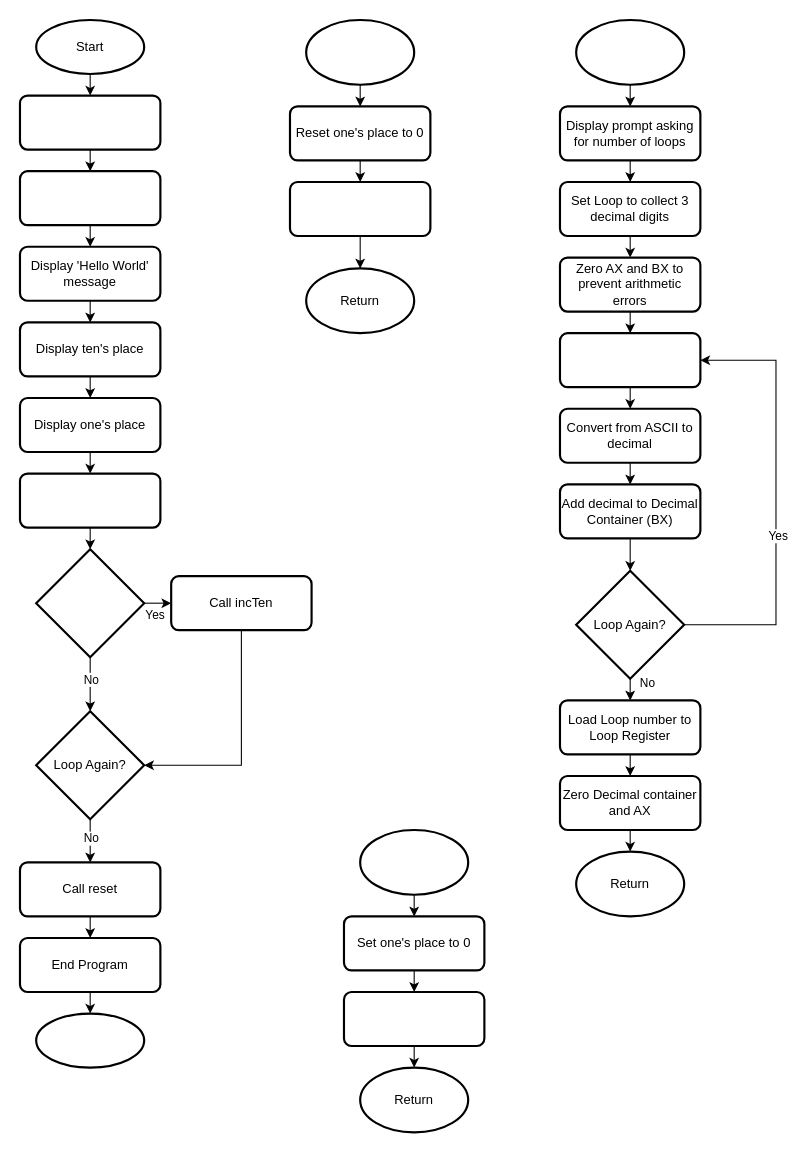
Some shapes in this 806 by 1151 pixel diagram are drawn without their labels. Here are the shapes that lost their labels. From the top down, the centre of each, then its label:
At [360,51]: "Reset".
At [630,51]: "getNum".
At [89,122]: "Display program title and name".
At [89,198]: "Call getNum".
At [359,208]: "Reset ten's place to 0".
At [629,360]: "Collect 1 input from keyboard".
At [89,500]: "Move to next Number to be displayed".
At [90,603]: "Update ten's place?".
At [414,861]: "incTen".
At [413,1018]: "Increase ten's place by 1".
At [90,1040]: "End".
